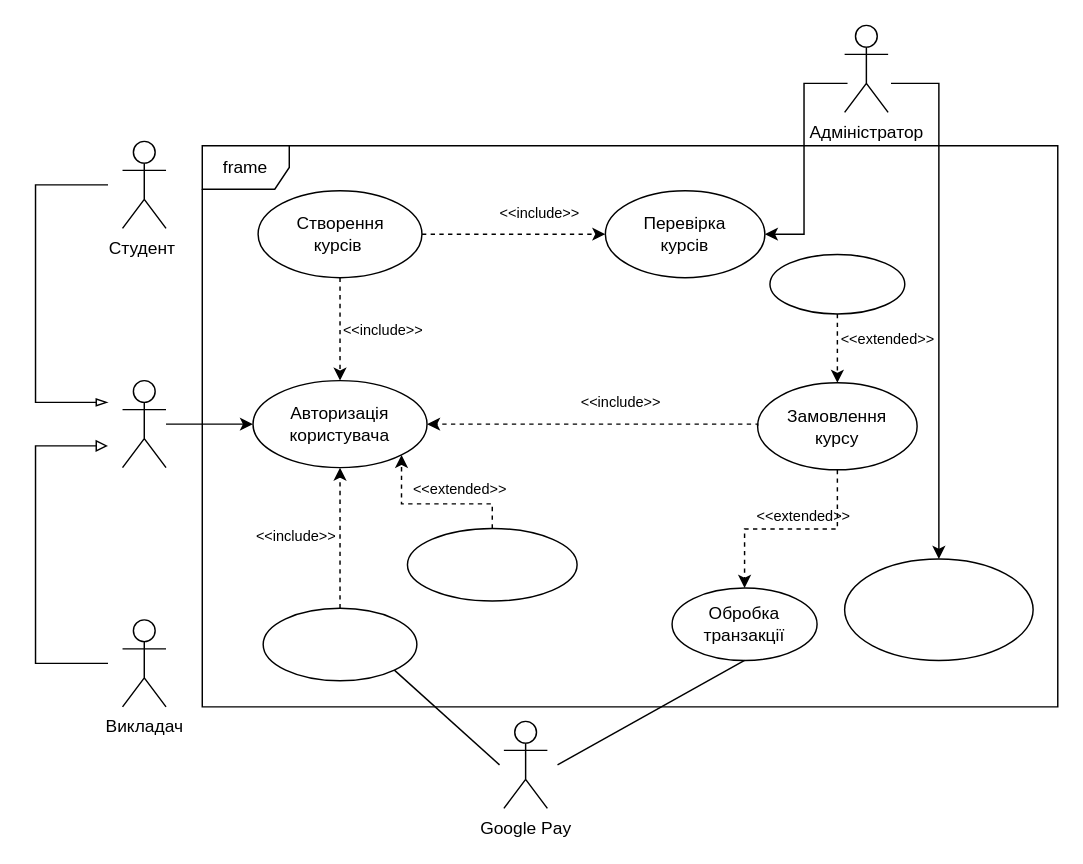
The diagram is 1083 pixels wide and 864 high, and some of its shapes have lost their labels. The box of each missing label's shape, as (x1, y1, x2, y2) in pixels:
Додавати каталог товарів магазинів-партнерів: (843, 558, 1033, 660)
Залишення відгуку: (768, 253, 905, 314)
Користувач: (121, 379, 166, 468)
Перегляд гаманця: (262, 607, 417, 681)
Пошук потрібних курсів: (406, 527, 577, 601)
